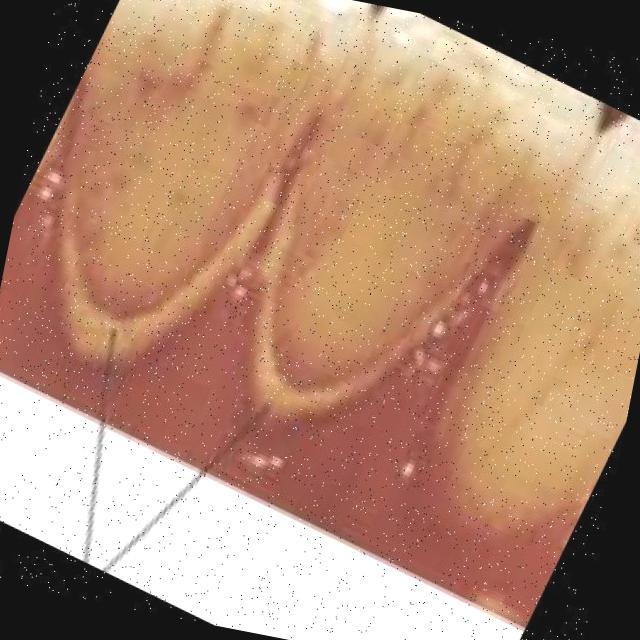calculus: (167, 125, 524, 546), (0, 34, 321, 440)
